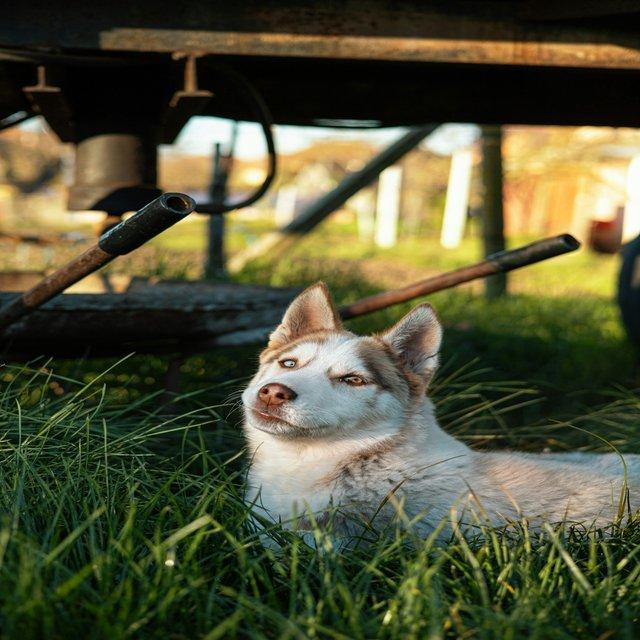husky: (236, 279, 639, 560)
